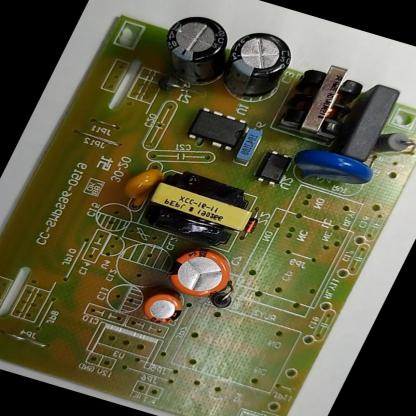Cap1: (152, 236, 249, 308)
Cap2: (127, 280, 203, 336)
Cap3: (206, 23, 311, 114)
Cap4: (137, 7, 246, 97)
MOSFET: (177, 102, 257, 158)
Mov: (278, 138, 385, 202)
Resistor: (365, 123, 415, 167)
Transformer: (132, 158, 266, 252), (267, 50, 372, 148)
